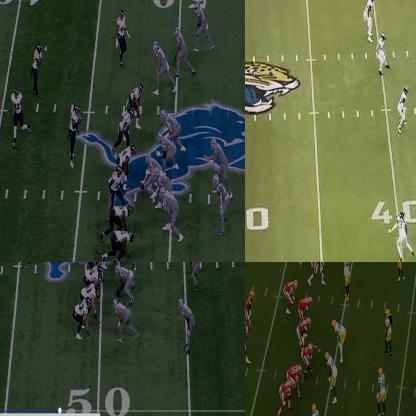CENTER: (302, 342, 321, 378), (139, 149, 156, 189)
DB: (10, 86, 30, 147), (394, 210, 415, 261), (181, 298, 194, 355), (115, 10, 127, 67), (32, 42, 42, 104), (110, 166, 122, 204), (399, 85, 408, 132), (397, 262, 405, 280)
LB: (215, 179, 230, 233), (118, 144, 136, 188), (69, 101, 81, 165), (185, 262, 203, 298), (118, 110, 134, 146), (364, 0, 375, 45), (376, 366, 386, 415), (378, 32, 389, 73), (385, 306, 393, 354), (342, 262, 350, 295)
QB: (205, 135, 228, 178), (245, 318, 248, 364)
SKILL: (154, 37, 174, 96), (172, 26, 192, 78), (192, 0, 212, 51), (74, 296, 94, 341), (285, 279, 297, 312), (245, 289, 255, 325), (310, 262, 326, 283)
